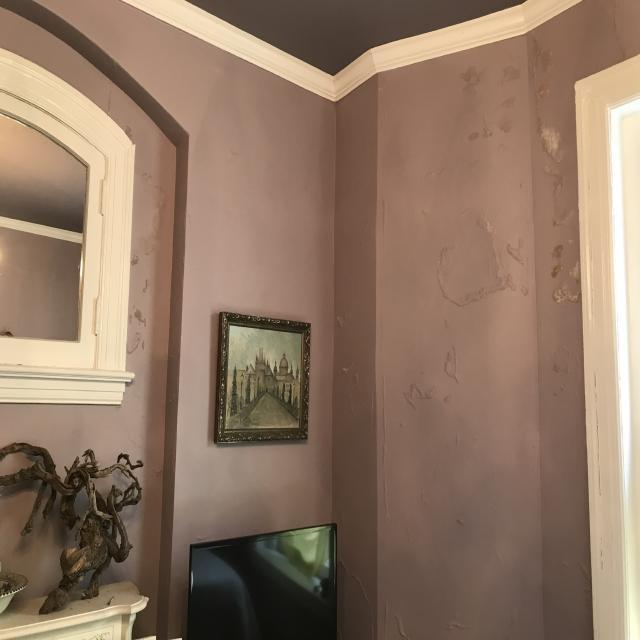wall_mold: (435, 49, 578, 302), (401, 332, 467, 412), (130, 229, 171, 352)
